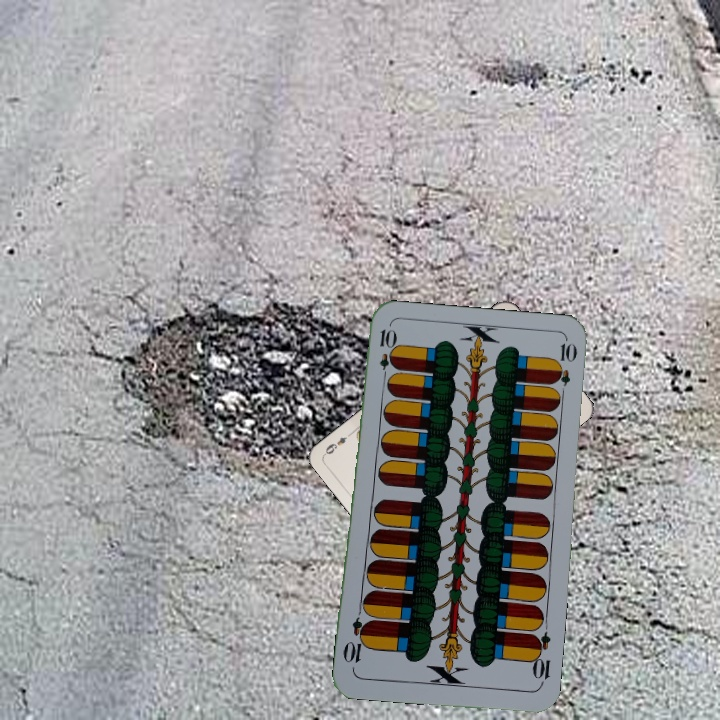E10: (527, 629, 553, 688), (375, 325, 395, 384)
